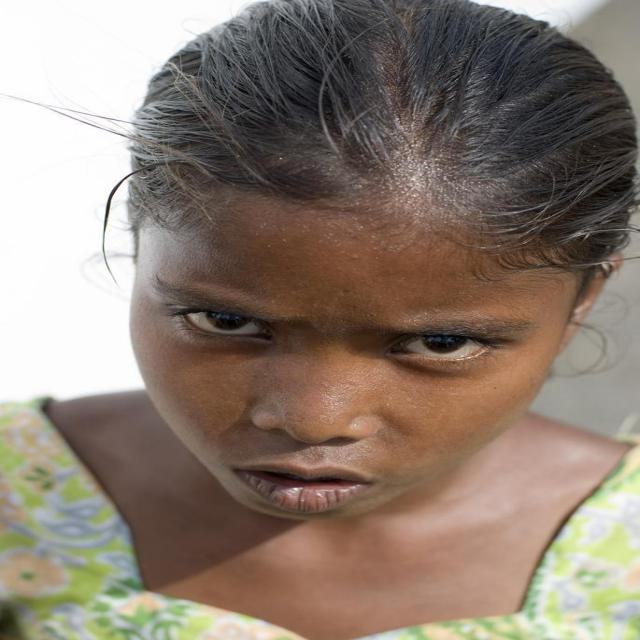no-glass: (158, 304, 502, 368)
